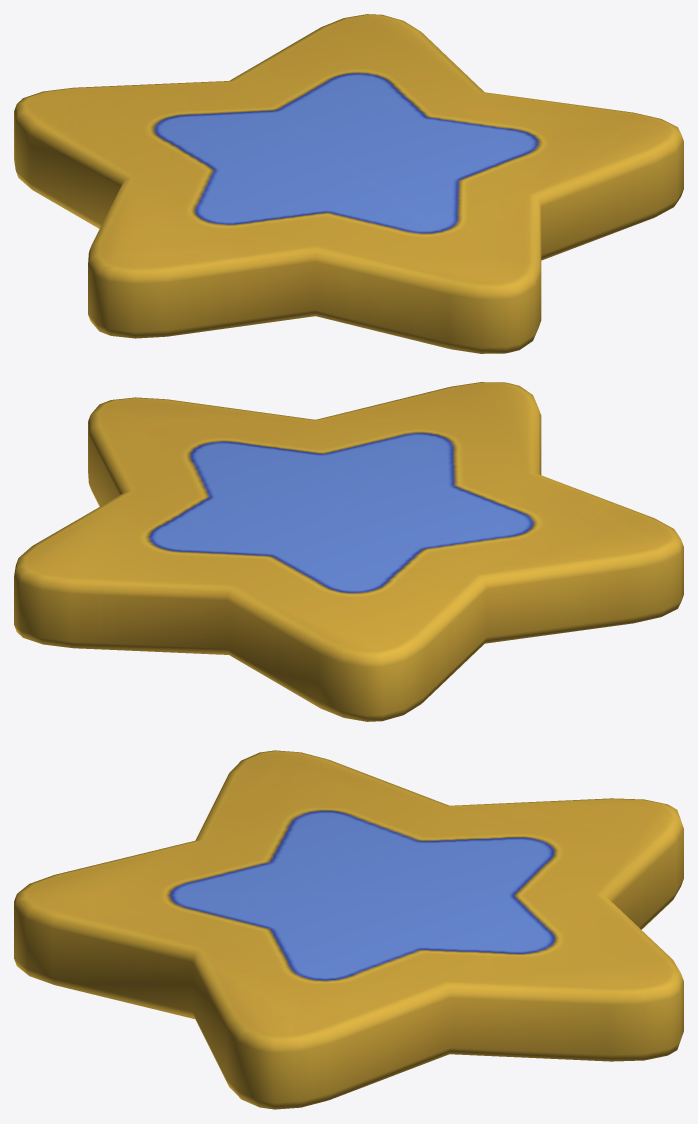
Rendered from SM_ParkourBoard_Star.fbx.
The picture shows the model from 3 angles, top to bottom: view 1: azimuth 30°, elevation 25°; view 2: azimuth 150°, elevation 25°; view 3: azimuth 270°, elevation 25°; orthographic projection. The views are drawn at different scales.
Parts seen in each view (by area): view 1: SM_ParkourBoard_Star; view 2: SM_ParkourBoard_Star; view 3: SM_ParkourBoard_Star.
Part boxes in pixels (x1=…): SM_ParkourBoard_Star: x1=14, y1=14, x2=683, y2=353; SM_ParkourBoard_Star: x1=14, y1=382, x2=683, y2=721; SM_ParkourBoard_Star: x1=14, y1=750, x2=683, y2=1109.
Bounding box in the file's own units: 893 × 100 × 855.
